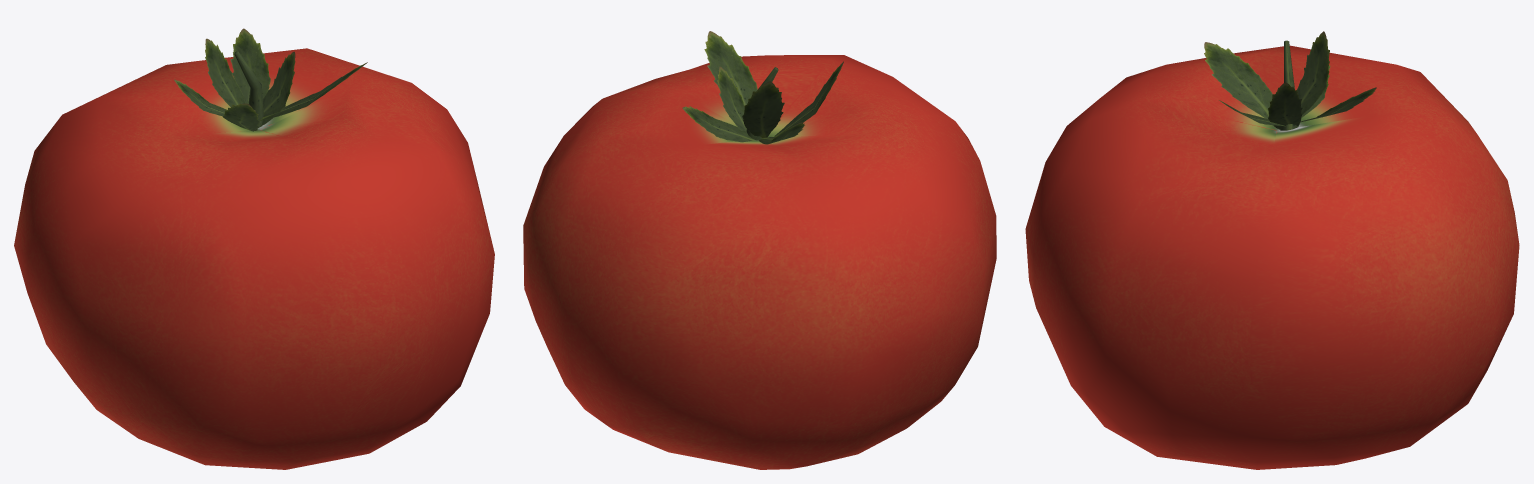
The model's file is Tomato.fbx.
The picture shows the model from 3 angles, left to right: view 1: azimuth 30°, elevation 25°; view 2: azimuth 150°, elevation 25°; view 3: azimuth 270°, elevation 25°; orthographic projection. The views are drawn at different scales.
Visible parts, largest first — view 1: Tomato.Mesh; view 2: Tomato.Mesh; view 3: Tomato.Mesh.
Part boxes in pixels (x1,y1,x2,y2): Tomato.Mesh: [14, 28, 494, 469]; Tomato.Mesh: [523, 31, 996, 469]; Tomato.Mesh: [1025, 31, 1519, 469].
Size of the model in its own units: 225 by 205 by 227.
Materials: 1 (1 with a texture image).
